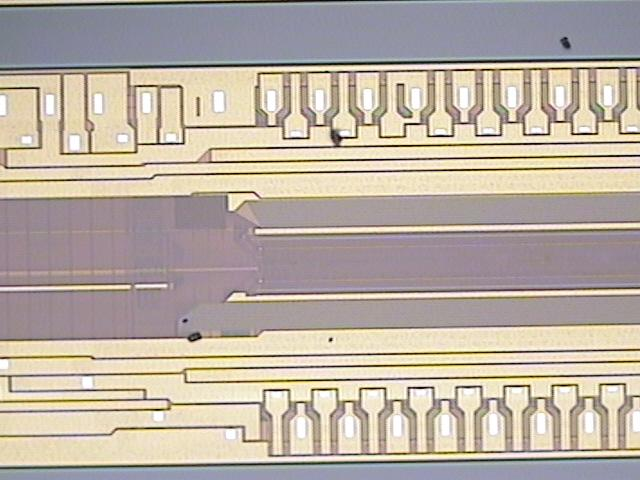PIQ PARTICLE: (171, 33, 578, 357)
